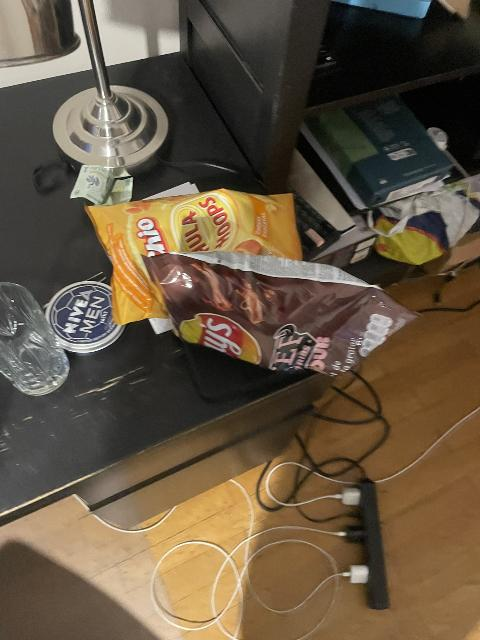Chio Hula Hoops Cheese 70g: (83, 189, 304, 326)
Lays Beef Grilled Ribs 125g: (145, 251, 416, 375)
